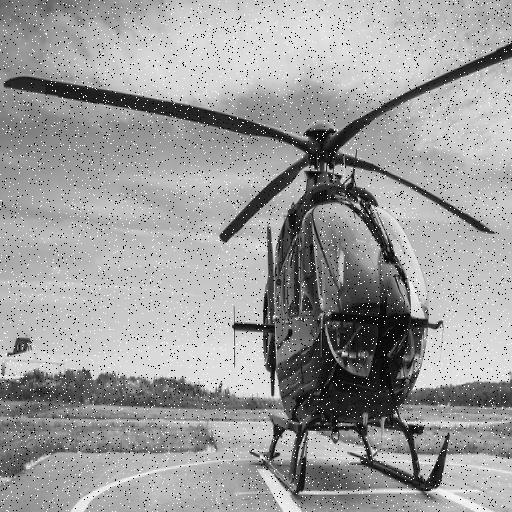helicopter: (1, 8, 512, 492)
